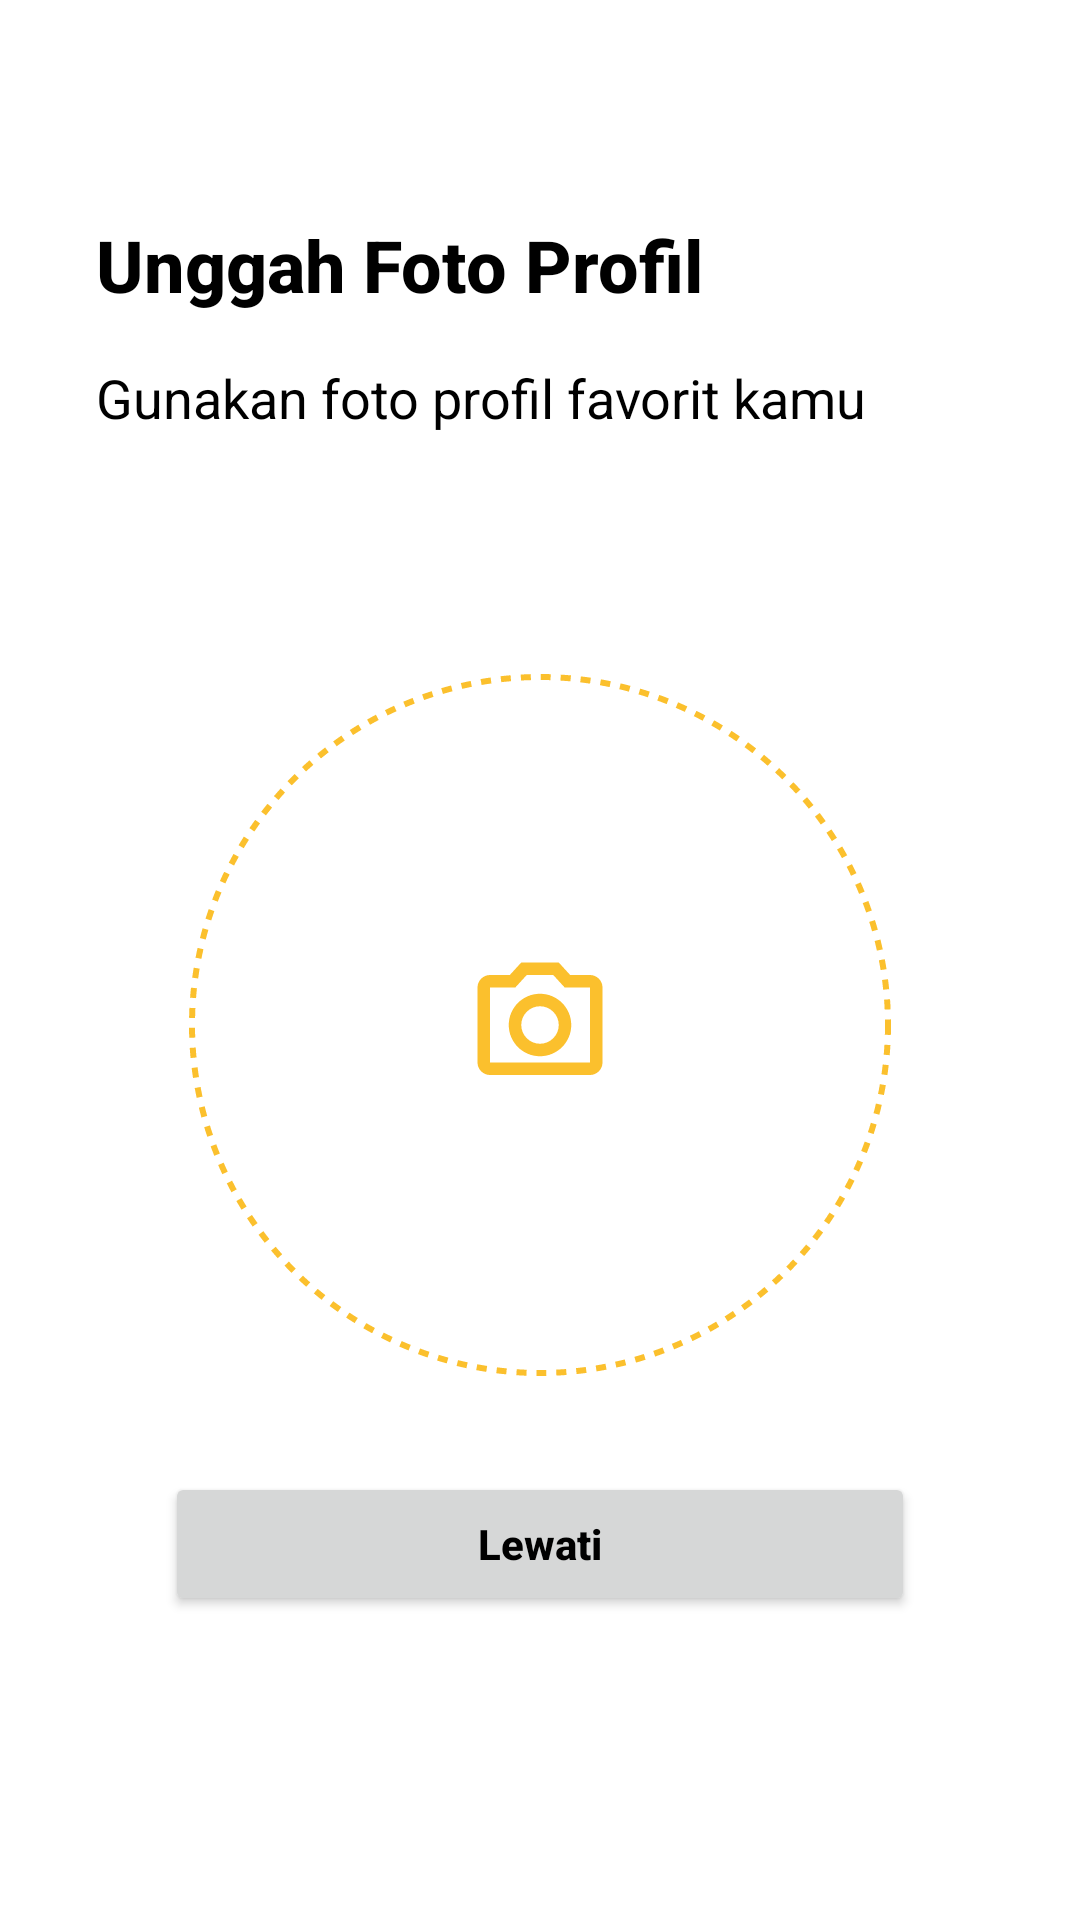

Screen size 1080px×1920px. Icon name, then its center in pixels as [x,y]:
camera: [540,1018]
